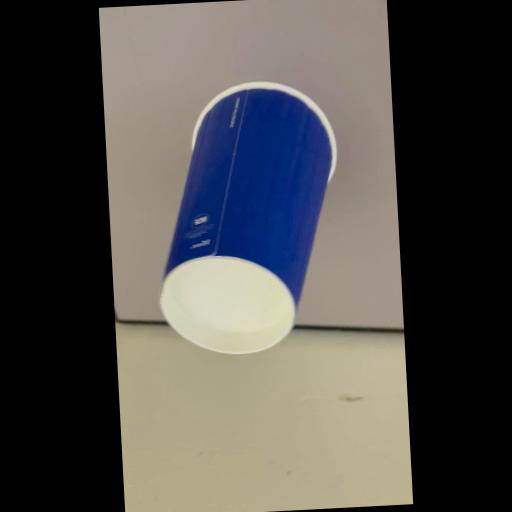lp_paper_cup: (145, 76, 351, 358)
